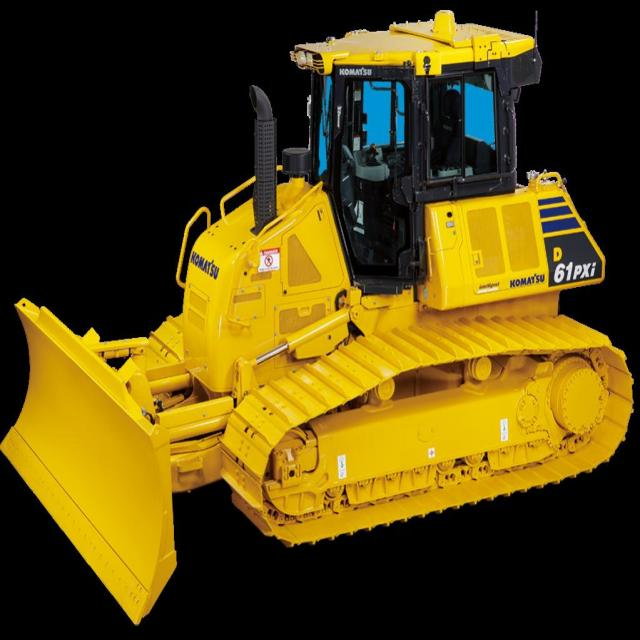Bulldozer: (2, 16, 629, 626)
